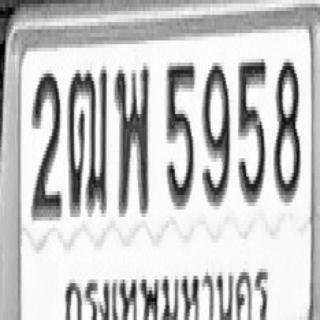A18: (67, 64, 107, 215)
A30: (114, 63, 149, 213)
N02: (31, 70, 61, 217)
N05: (165, 59, 194, 210), (237, 57, 266, 204)
N08: (273, 59, 300, 202)
N09: (201, 59, 230, 206)
P04: (61, 260, 271, 320)
